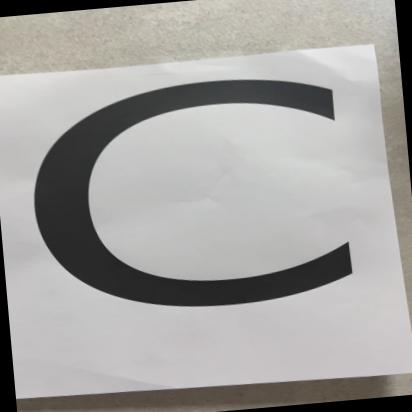seat: (0, 38, 408, 412)
